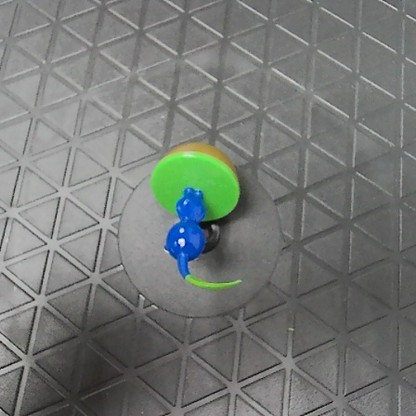leafairy: (145, 140, 245, 292)
